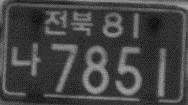1: (155, 45, 168, 100), (130, 10, 140, 41)
5: (113, 45, 142, 95)
7: (49, 41, 80, 95)
8: (82, 45, 110, 96), (102, 10, 123, 36)
나: (10, 40, 41, 78)
전북_O: (43, 8, 94, 36)
